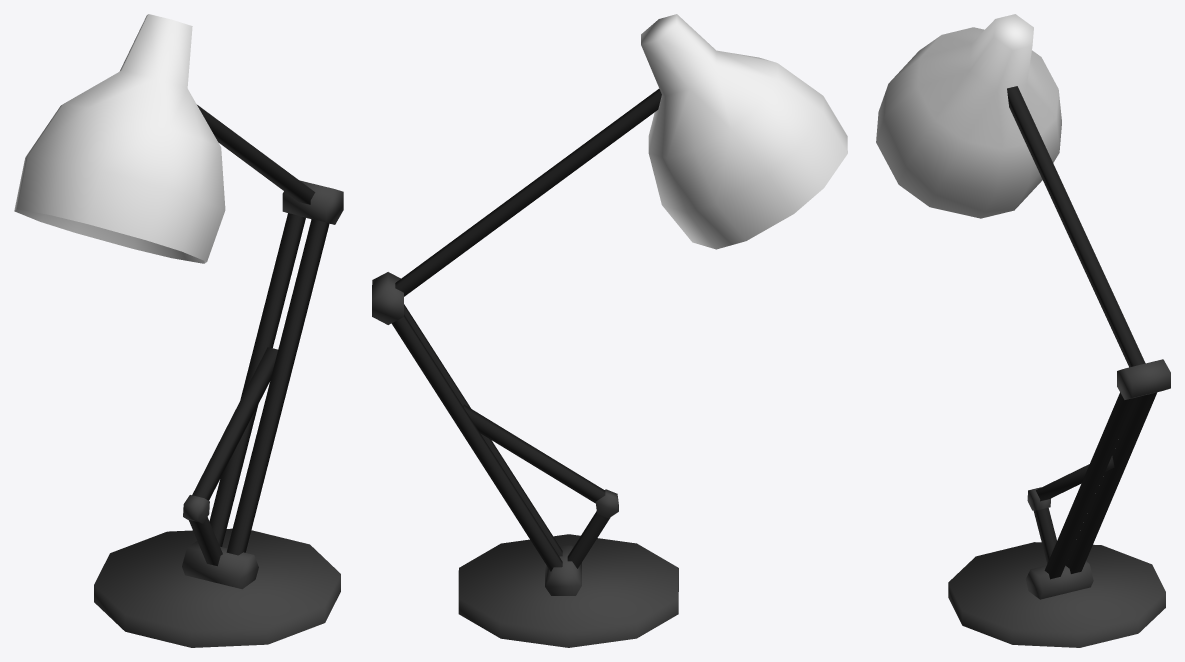
Rendered from Lamp3.fbx.
3 views of the same model, side by side, from view 1: azimuth 30°, elevation 25°; view 2: azimuth 150°, elevation 25°; view 3: azimuth 270°, elevation 25° (orthographic). The views are drawn at different scales.
Visible parts, largest first — view 1: Lamp3; view 2: Lamp3; view 3: Lamp3.
Boxes of the visible parts, x1,y1,x2,y2 form: Lamp3: [14, 14, 343, 647]; Lamp3: [372, 14, 847, 647]; Lamp3: [876, 14, 1170, 647].
Bounding box in the file's own units: 12.24 × 17.94 × 8.74.
